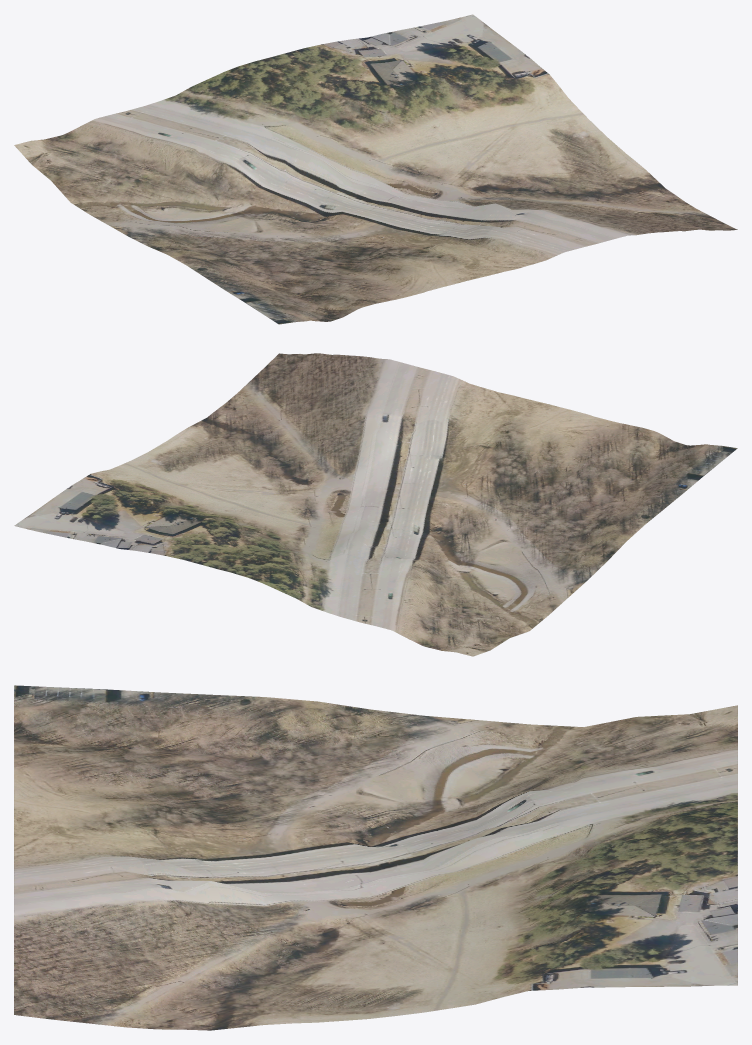
Rendered from CM_Terrain_24491278_6818156.fbx.
3 renders of one model, top to bottom at view 1: azimuth 30°, elevation 25°; view 2: azimuth 150°, elevation 25°; view 3: azimuth 270°, elevation 25°, orthographic. The views are drawn at different scales.
Visible parts, largest first — view 1: CM_Terrain_24491278_6818156_LOD0; view 2: CM_Terrain_24491278_6818156_LOD0; view 3: CM_Terrain_24491278_6818156_LOD0.
Part boxes in pixels (bbox=[...]): CM_Terrain_24491278_6818156_LOD0: bbox=[14, 14, 737, 324]; CM_Terrain_24491278_6818156_LOD0: bbox=[14, 353, 737, 656]; CM_Terrain_24491278_6818156_LOD0: bbox=[14, 685, 737, 1030].
Size of what is drawn, in the model's own units: 205 by 18.88 by 205.
